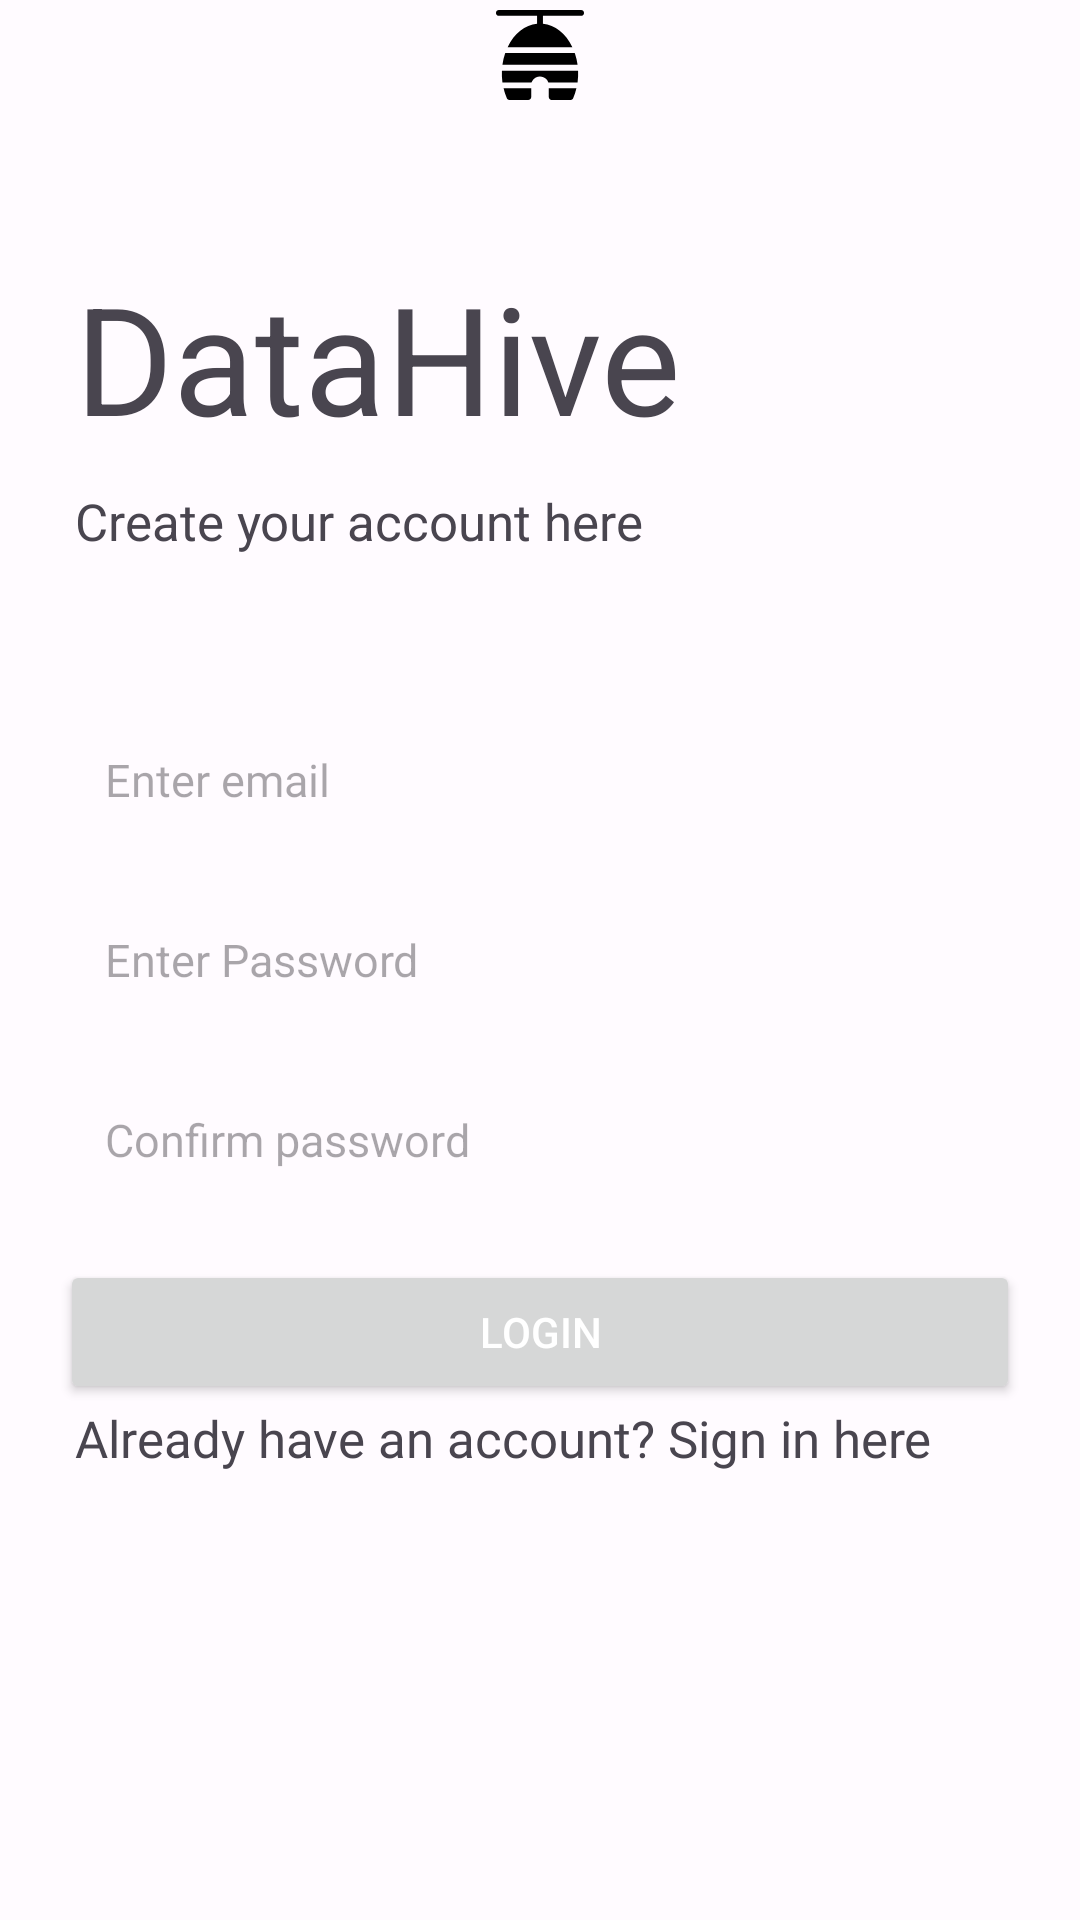

Point at icon controls on the screen. Image size 1080x1920, points as (x=x, y=y).
hive: (x=540, y=55)
